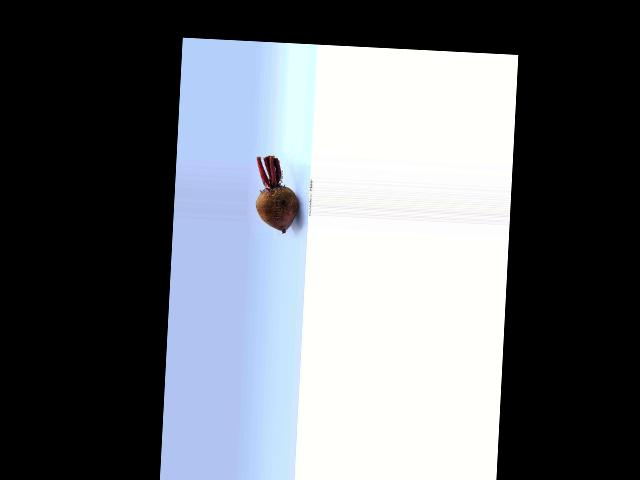beet: (254, 156, 300, 232)
